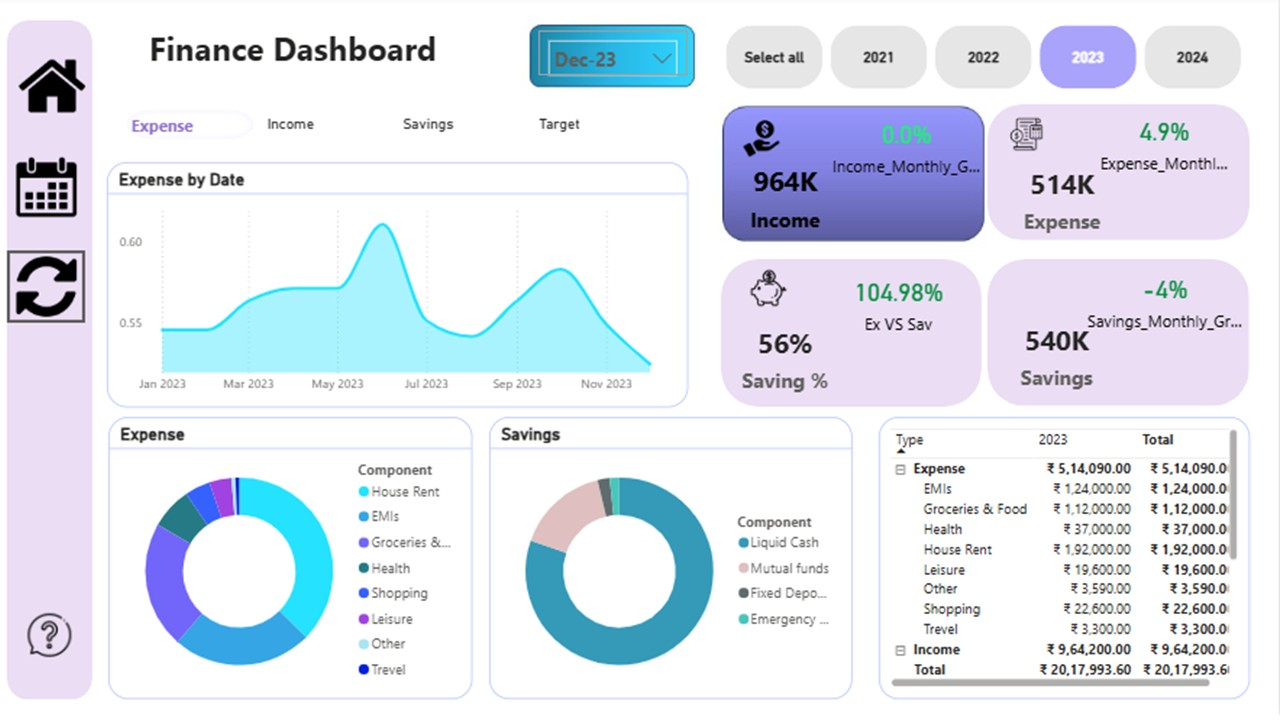

This screenshot's page, from the dashboard's own definition file:
{"tool":"powerbi","page":{"name":"Page 1","canvas":[1280,720],"ordinal":0},"visuals":[{"type":"shape","box":[990.7,262,260.5,146.3],"z":0},{"type":"shape","box":[725.8,262.1,259.2,146.9],"z":1000},{"type":"shape","box":[991,108.6,263,134.6],"z":2000},{"type":"card","fields":{"Values":["Measure.Expense"]},"box":[999.4,148.3,131,105.1],"z":3000},{"type":"card","fields":{"Values":["Measure.Saving %"]},"box":[725.9,317.6,127.3,82],"z":4000},{"type":"card","fields":{"Values":["Measure.Savings"]},"box":[990.7,314.6,137.6,84.9],"z":5000},{"type":"card","fields":{"Values":["Measure.Income"]},"box":[732.5,156,113.2,87.2],"z":6000},{"type":"donutChart","title":"Savings ","fields":{"Category":["Dataset.Component"],"Y":["Measure.Savings"]},"box":[495.5,419,360.9,281.4],"z":7000},{"type":"donutChart","title":"Expense ","fields":{"Category":["Dataset.Component"],"Y":["Measure.Expense"]},"box":[116.2,419,362.4,281.4],"z":8000},{"type":"pivotTable","title":"Expense ","fields":{"Values":["Measure.Total Value"],"Rows":["Dataset.Type","Dataset.Component"],"Columns":["Dataset.Year"]},"box":[882.4,419,368.6,281.4],"z":9000},{"type":"areaChart","fields":{"Y":["Measure.Line Chart Measure"],"Category":["Dataset.Date.Variation.Date Hierarchy.Year","Dataset.Date.Variation.Date Hierarchy.Quarter","Dataset.Date.Variation.Date Hierarchy.Month","Dataset.Date.Variation.Date Hierarchy.Day"]},"box":[115.6,165.4,578,244.4],"z":10000},{"type":"advancedSlicerVisual","fields":{"Values":["Line Selection Table.Column1"]},"box":[129.6,108,542.9,40.3],"z":11000},{"type":"textbox","box":[116.6,24.5,367.2,72],"z":12000},{"type":"shape","box":[16.1,24.9,84.9,676.1],"z":13000},{"type":"slicer","fields":{"Values":["Selected Date.Month_Year"]},"box":[544.3,34.6,148.3,44.6],"z":14000},{"type":"card","fields":{"Values":["Measure.Expense_Monthly_Growth"]},"box":[1097.3,105.1,138.2,79.2],"z":15000},{"type":"card","fields":{"Values":["Measure.Income_Monthly_Growth"]},"box":[829.4,110.9,161.3,73.4],"z":16000},{"type":"card","fields":{"Values":["Measure.Savings_Monthly_Growth"]},"box":[1082.9,262,168.3,80.5],"z":17000},{"type":"card","fields":{"Values":["Measure.Ex VS Sav"]},"box":[829.4,262.1,145.4,85],"z":18000},{"type":"image","box":[18.7,51.8,83.5,76.3],"z":19000},{"type":"image","box":[19.9,156,70.3,70.3],"z":21000},{"type":"image","box":[19.9,253.9,70.3,71.9],"z":22000},{"type":"advancedSlicerVisual","fields":{"Values":["Dataset.Year"]},"box":[725.8,24.5,525.6,73.4],"z":23000},{"type":"actionButton","box":[18.7,155.5,74.9,70.6],"z":24000},{"type":"actionButton","box":[15.8,253.4,77.8,72],"z":26000},{"type":"image","box":[743,118.1,46.1,47.5],"z":26001},{"type":"image","box":[999.4,113.8,60.5,47.5],"z":26002},{"type":"image","box":[744.5,267.8,57.6,46.1],"z":26003},{"type":"image","box":[31.7,597.6,53.3,77.8],"z":26004}]}

Visuals, with their boxes in screenshot pixels (x1, y1, x2, y2), scaled from the page's 1280x720 canvas onto the 1280x720 screenshot:
shape: 991, 262, 1251, 408
shape: 726, 262, 985, 409
shape: 991, 109, 1254, 243
card - Measure.Expense: 999, 148, 1130, 253
card - Measure.Saving %: 726, 318, 853, 400
card - Measure.Savings: 991, 315, 1128, 400
card - Measure.Income: 732, 156, 846, 243
"Savings " donutChart: 496, 419, 856, 700
"Expense " donutChart: 116, 419, 479, 700
"Expense " pivotTable: 882, 419, 1251, 700
areaChart - Measure.Line Chart Measure x Dataset.Date.Variation.Date Hierarchy.Year: 116, 165, 694, 410
advancedSlicerVisual - Line Selection Table.Column1: 130, 108, 672, 148
textbox: 117, 24, 484, 96
shape: 16, 25, 101, 701
slicer - Selected Date.Month_Year: 544, 35, 693, 79
card - Measure.Expense_Monthly_Growth: 1097, 105, 1236, 184
card - Measure.Income_Monthly_Growth: 829, 111, 991, 184
card - Measure.Savings_Monthly_Growth: 1083, 262, 1251, 342
card - Measure.Ex VS Sav: 829, 262, 975, 347
image: 19, 52, 102, 128
image: 20, 156, 90, 226
image: 20, 254, 90, 326
advancedSlicerVisual - Dataset.Year: 726, 24, 1251, 98
actionButton: 19, 156, 94, 226
actionButton: 16, 253, 94, 325
image: 743, 118, 789, 166
image: 999, 114, 1060, 161
image: 744, 268, 802, 314
image: 32, 598, 85, 675
